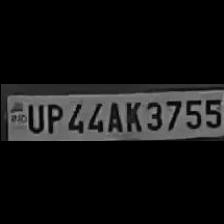3: (142, 98, 162, 130)
4: (64, 98, 84, 132), (84, 98, 102, 132)
5: (182, 96, 202, 128), (202, 96, 222, 128)
7: (162, 96, 180, 130)
A: (104, 98, 122, 132)
K: (122, 98, 142, 132)
P: (42, 100, 62, 132)
U: (23, 100, 41, 132)
